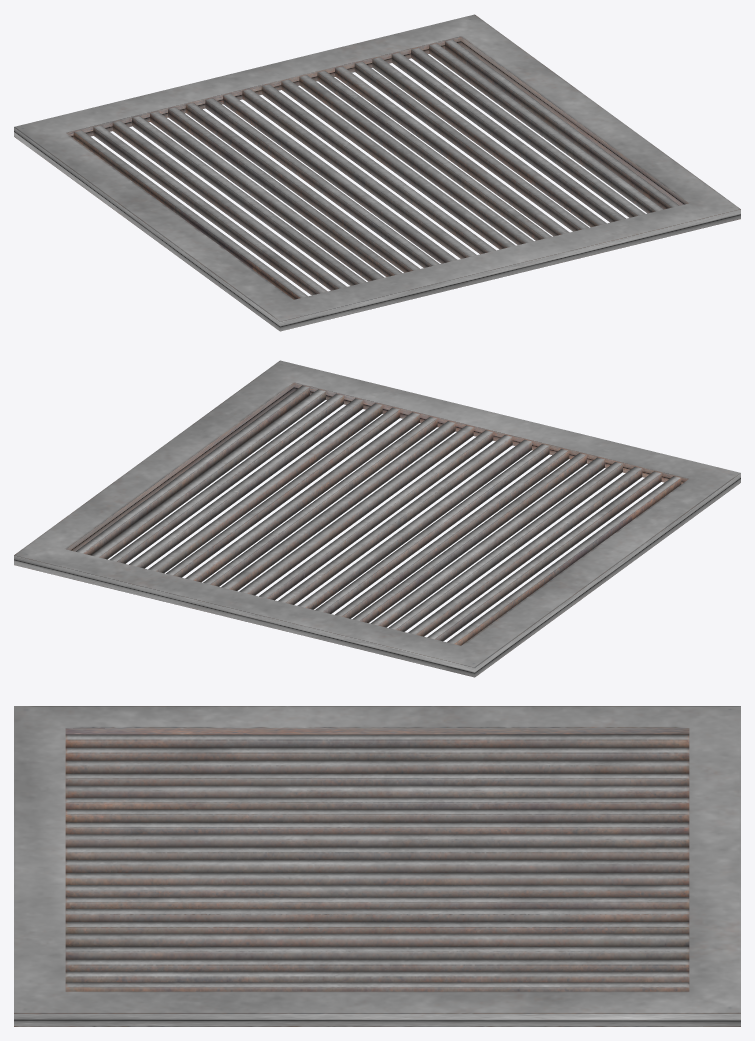
Rendered from SM_Grate_1.fbx.
3 views of the same model, one above another, from view 1: azimuth 30°, elevation 25°; view 2: azimuth 150°, elevation 25°; view 3: azimuth 270°, elevation 25° (orthographic). The views are drawn at different scales.
Parts seen in each view (by area): view 1: SM_Grate_1; view 2: SM_Grate_1; view 3: SM_Grate_1.
Part boxes in pixels (x1=…): SM_Grate_1: x1=14, y1=14, x2=740, y2=331; SM_Grate_1: x1=14, y1=360, x2=740, y2=677; SM_Grate_1: x1=14, y1=706, x2=740, y2=1026.
Bounding box in the file's own units: 100 × 2.05 × 100.
